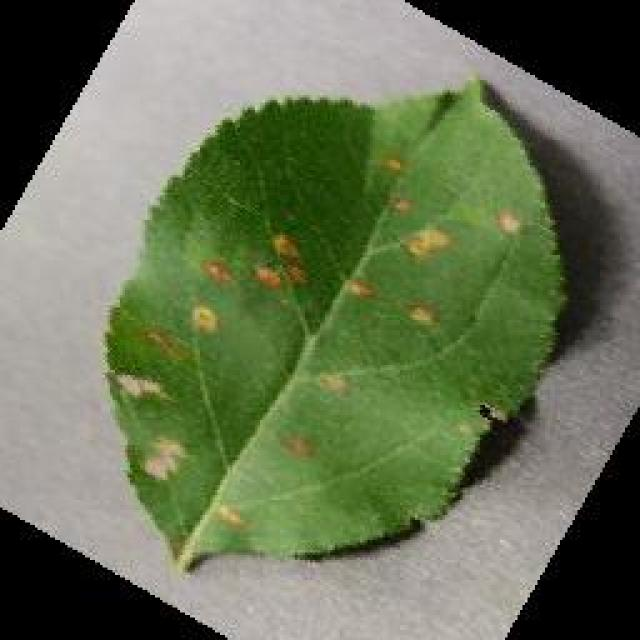Apple___Cedar_apple_rust: (95, 69, 572, 584)
